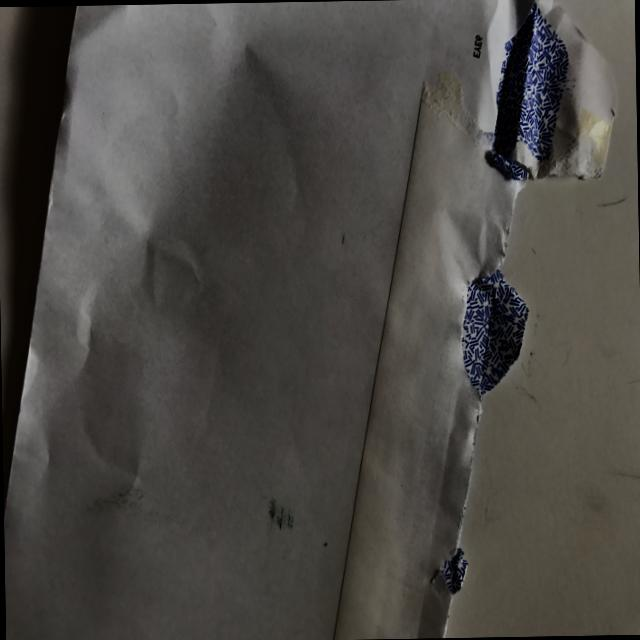Paper: (4, 0, 622, 640)
